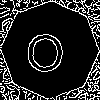O: (25, 25, 65, 72)
